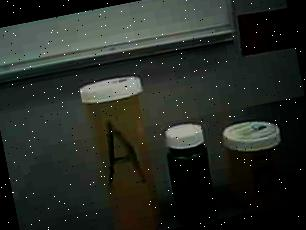Bottle A: (72, 67, 172, 230)
Bottle B: (216, 113, 296, 216)
Bottle C: (157, 114, 226, 228)
